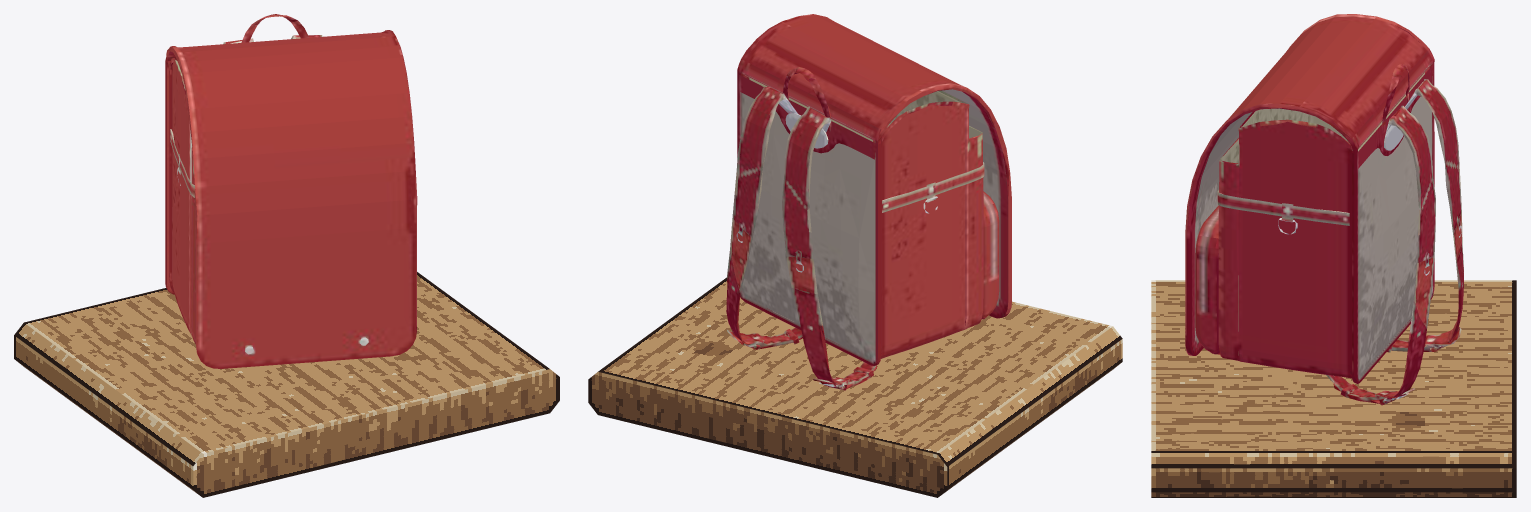
Rendered from randoseru.glb.
3 renders of one model, left to right at view 1: azimuth 30°, elevation 25°; view 2: azimuth 150°, elevation 25°; view 3: azimuth 270°, elevation 25°, orthographic. The views are drawn at different scales.
Parts seen in each view (by area): view 1: model_m, base; view 2: model_m, base; view 3: model_m, base.
Part boxes in pixels (x1,y1,x2,y2): model_m: (165,14,417,368); base: (14,272,559,497); model_m: (726,14,1011,390); base: (588,277,1122,497); model_m: (1185,14,1463,405); base: (1151,280,1516,497).
Size of the model in its own units: 26 by 23.55 by 22.
Materials: 2 (2 with a texture image).
